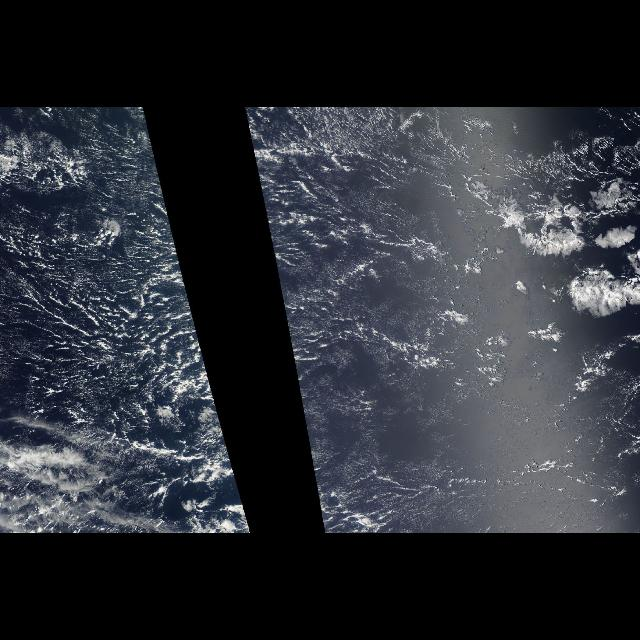Gravel: (256, 118, 636, 478), (11, 130, 231, 478)
Sugar: (296, 215, 582, 480)
